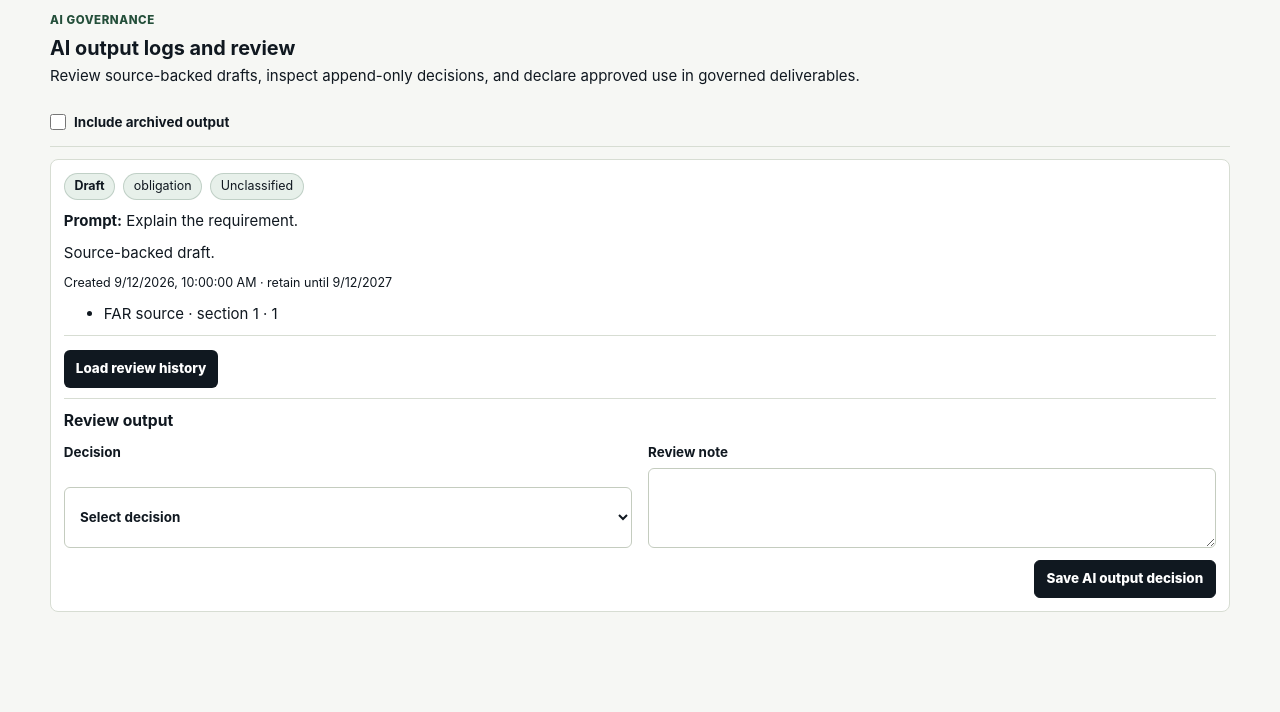
Test case: AiOutputGovernancePanel › records a review using the current optimistic version
expect the text "Source-backed draft." is shown: met, box [64, 243, 215, 262]
Select "Approved" in the dropdown labelled "Decision" at (348, 517), box [64, 486, 632, 548]
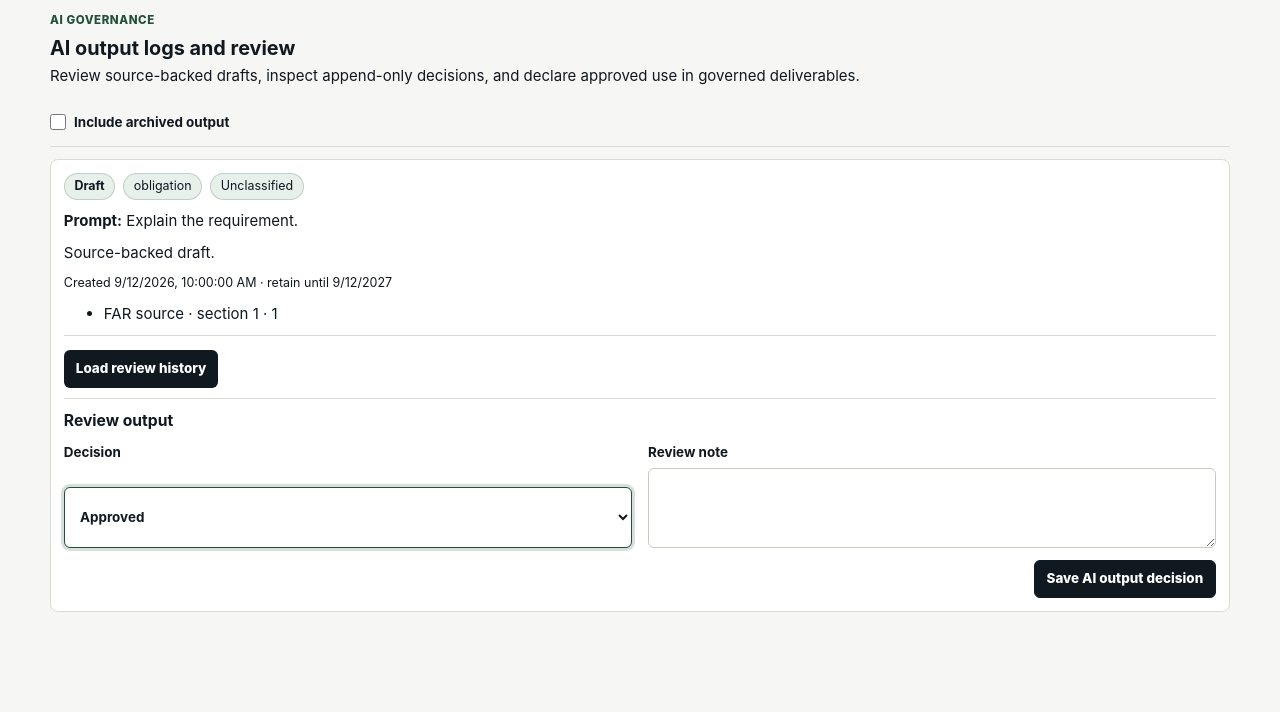
Type "Sources verified." into the text box labelled "Review note".
click(932, 508); type("Sources verified.")  # box [648, 468, 1216, 548]
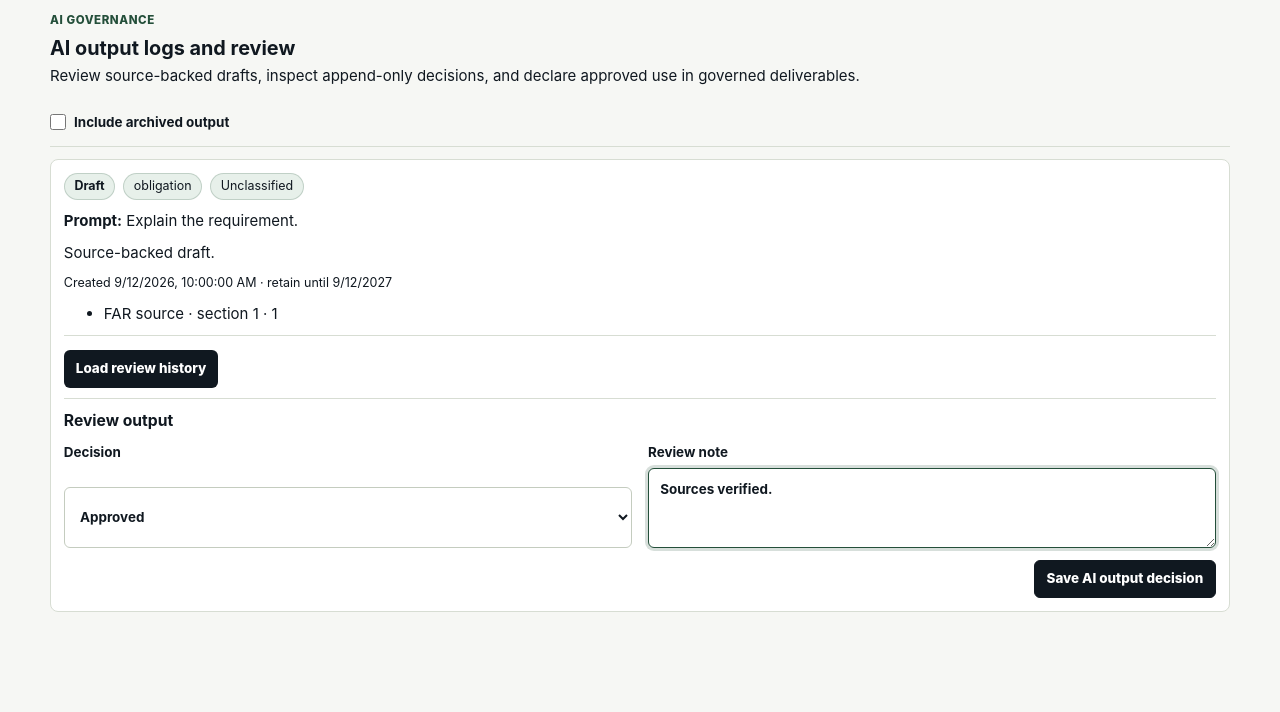
Click the button "Save AI output decision".
click(1125, 579)  # box [1034, 560, 1216, 598]
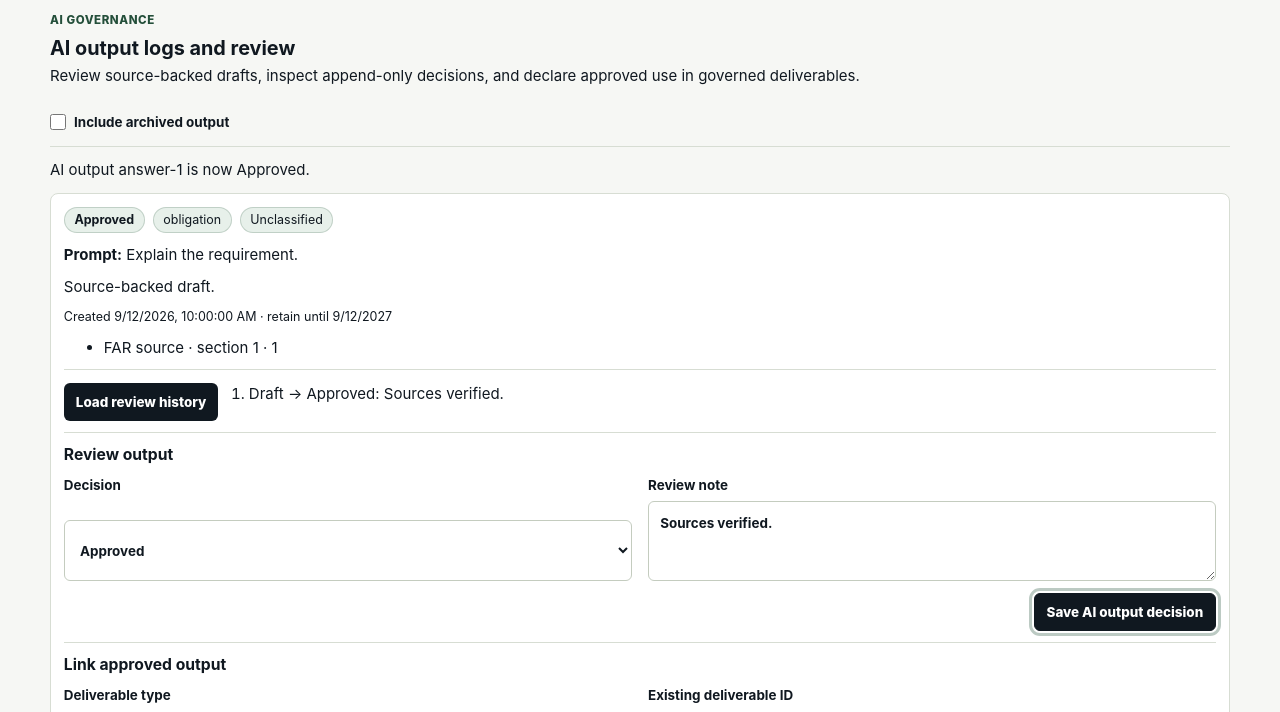
expect the text "AI output answer-1 is now Approved." is shown: met, box [50, 160, 310, 179]
